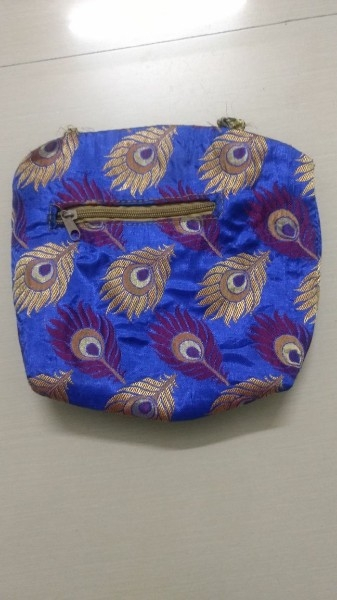clothbag: (11, 117, 324, 424)
